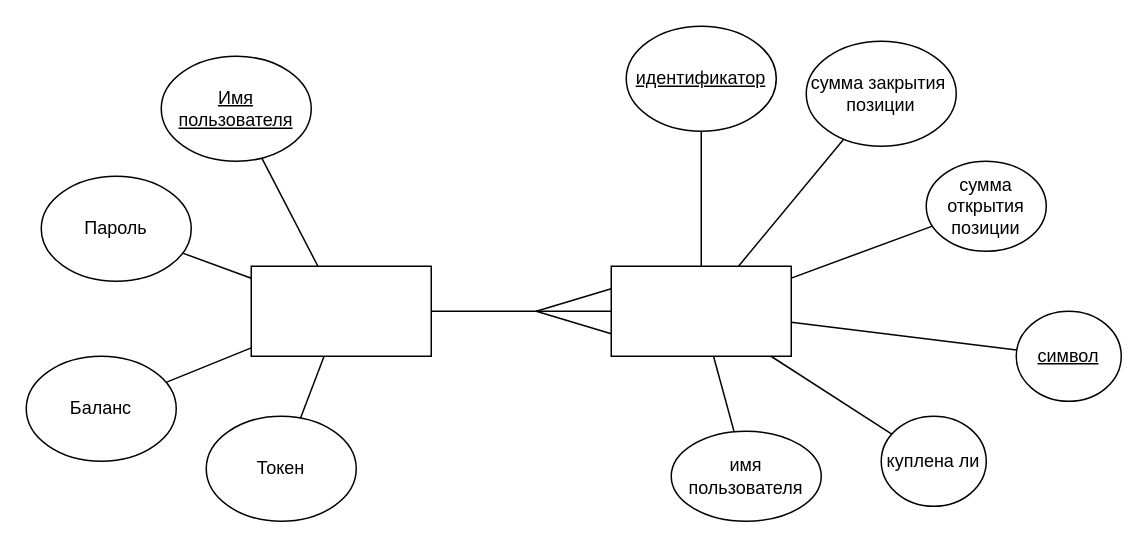
The diagram is 1148 pixels wide and 548 high, and some of its shapes have lost their labels. The shapes that lost their labels are listed below. From the top down, each one's centre as x and y in pixels, then its label:
At point (340, 310): "Пользователи".
At point (700, 310): "Позиции".
